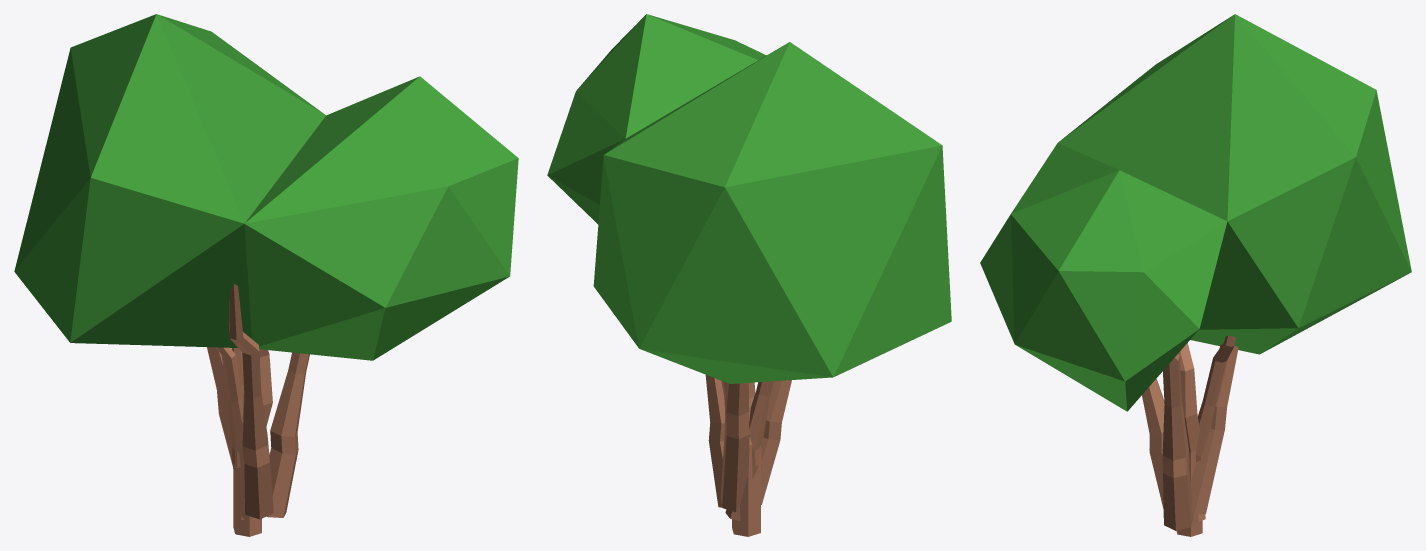
Rendered from bush_big.fbx.
3 renders of one model, left to right at view 1: azimuth 30°, elevation 25°; view 2: azimuth 150°, elevation 25°; view 3: azimuth 270°, elevation 25°, orthographic. The views are drawn at different scales.
Visible parts, largest first — view 1: Icosphere.107; view 2: Icosphere.107; view 3: Icosphere.107.
Part boxes in pixels (box(x1,y1,x2,y2)): Icosphere.107: box(14, 14, 518, 536); Icosphere.107: box(547, 14, 951, 536); Icosphere.107: box(980, 14, 1411, 536).
Bounding box in the file's own units: 245 × 301 × 242.
